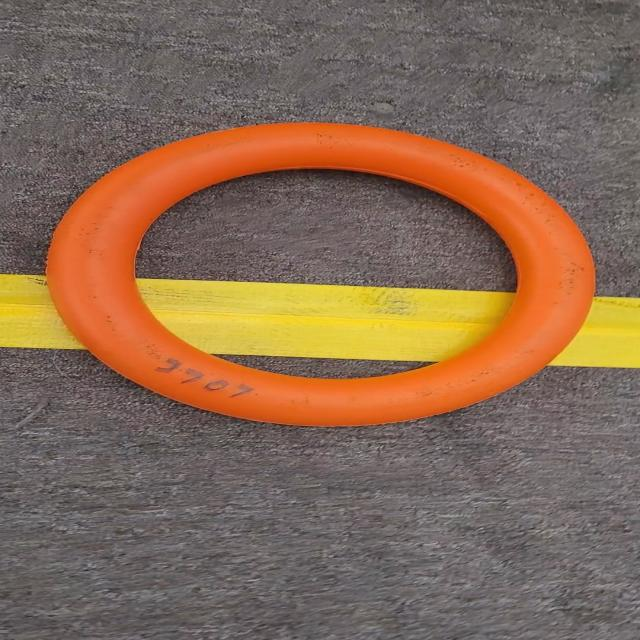note: (49, 119, 598, 427)
